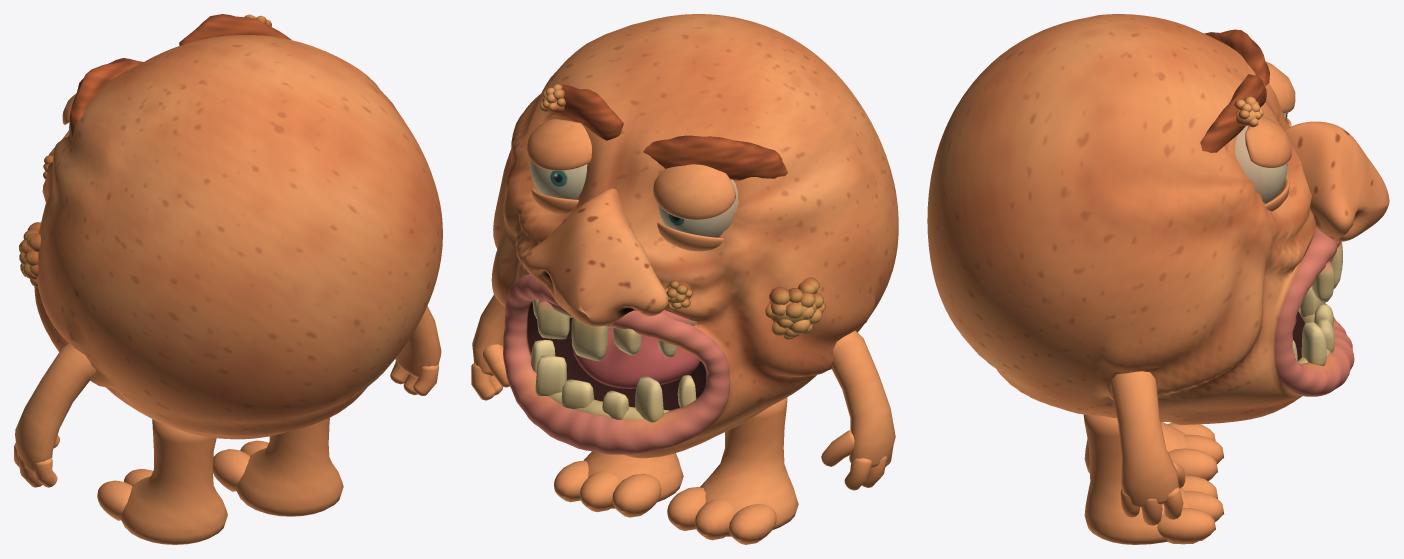
3 renders of one model, left to right at view 1: azimuth 30°, elevation 25°; view 2: azimuth 150°, elevation 25°; view 3: azimuth 270°, elevation 25°, orthographic.
Size of the model in its own units: 0.9345 by 0.9999 by 0.9001.
Materials: 8 (8 with a texture image).
